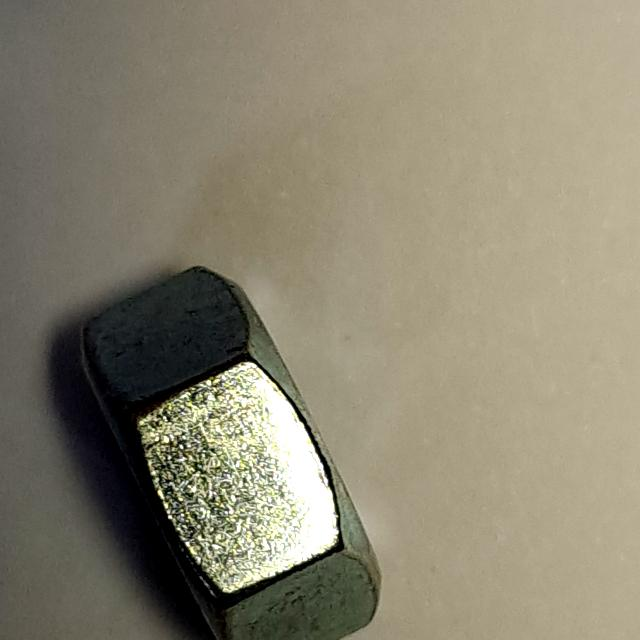Side_Excellent: (51, 256, 396, 640)
